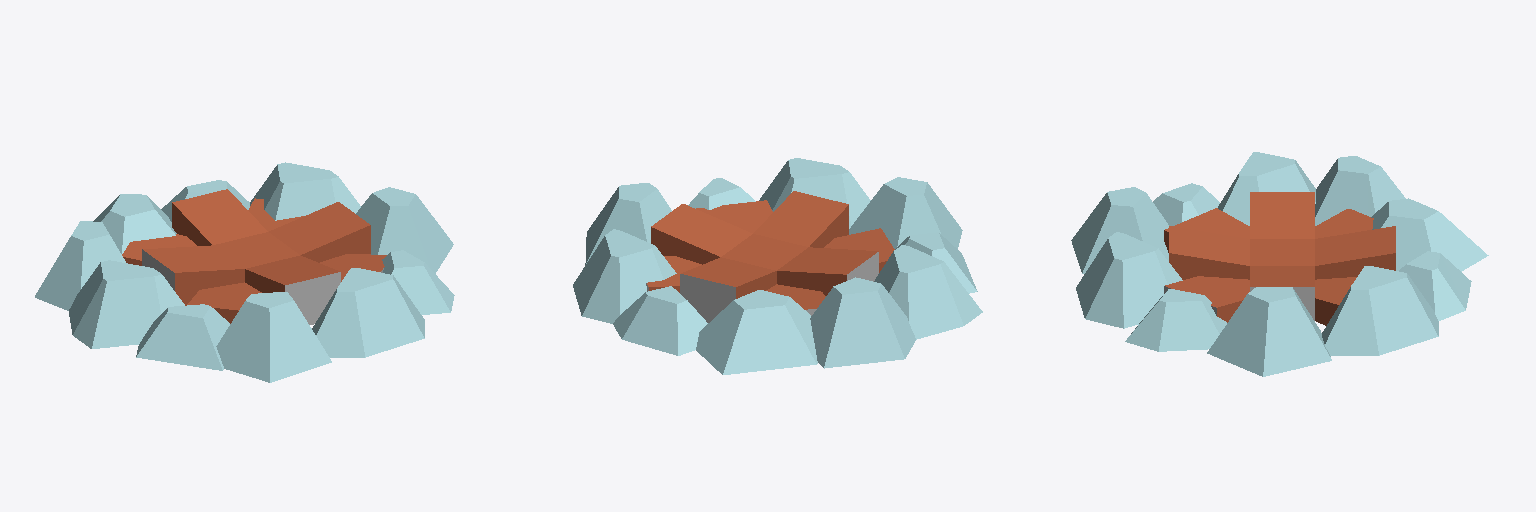
Rendered from campfire.obj.
The picture shows the model from 3 angles: view 1: azimuth 30°, elevation 25°; view 2: azimuth 150°, elevation 25°; view 3: azimuth 270°, elevation 25°; orthographic projection.
Parts seen in each view (by area): view 1: campfire_logs; view 2: campfire_logs; view 3: campfire_logs.
Part boxes in pixels (left/top/right/bottom): campfire_logs: left=35, top=162, right=454, bottom=382; campfire_logs: left=573, top=158, right=982, bottom=374; campfire_logs: left=1071, top=152, right=1488, bottom=376.
Size of the model in its own units: 0.5408 by 0.0778 by 0.5155.